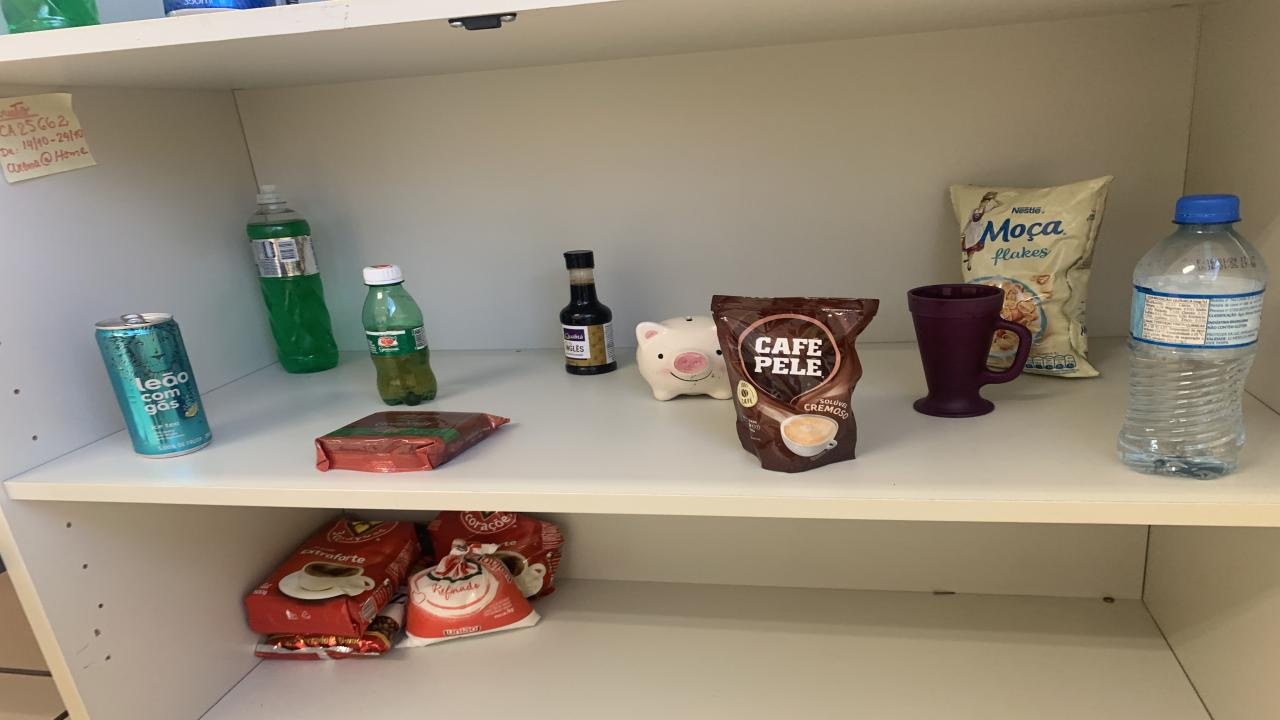Coffee-Pantry_Items: (712, 294, 878, 472)
Detergent-Cleanup_Items: (248, 186, 338, 373)
English_Sauce-Pantry_Items: (560, 249, 618, 375)
Flakes-Snacks: (950, 176, 1112, 377)
Guarana-Drinks: (362, 266, 438, 405)
Guava-Snacks: (315, 411, 510, 472), (560, 251, 618, 375)
Pig_Safe-Miscellaneous: (635, 317, 732, 401)
Tea-Drinks: (95, 313, 212, 458)
Water_Bottle-Drinks: (1118, 195, 1268, 478)
